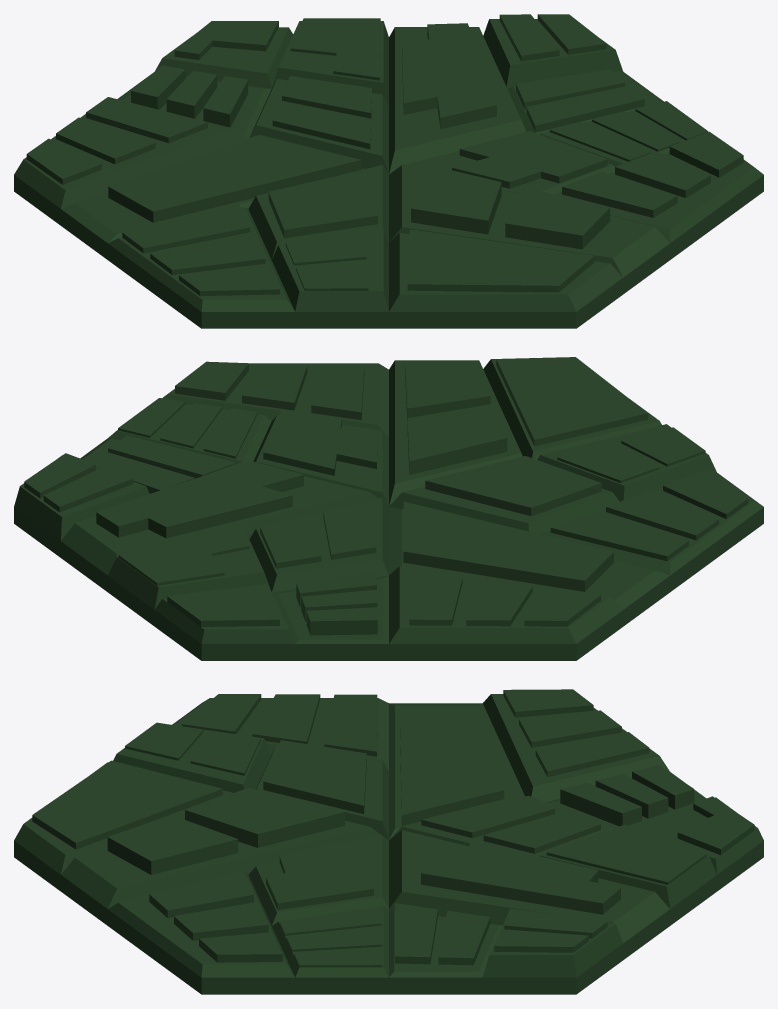
Rendered from DysonSphereHex02.FBX.
The picture shows the model from 3 angles, top to bottom: view 1: azimuth 30°, elevation 25°; view 2: azimuth 150°, elevation 25°; view 3: azimuth 270°, elevation 25°; orthographic projection.
Parts seen in each view (by area): view 1: Hexagon02; view 2: Hexagon02; view 3: Hexagon02.
Part boxes in pixels (x1=…): Hexagon02: x1=14, y1=14, x2=763, y2=328; Hexagon02: x1=14, y1=357, x2=763, y2=660; Hexagon02: x1=14, y1=689, x2=763, y2=994.
Size of the model in its own units: 34.95 by 2.73 by 40.35.
